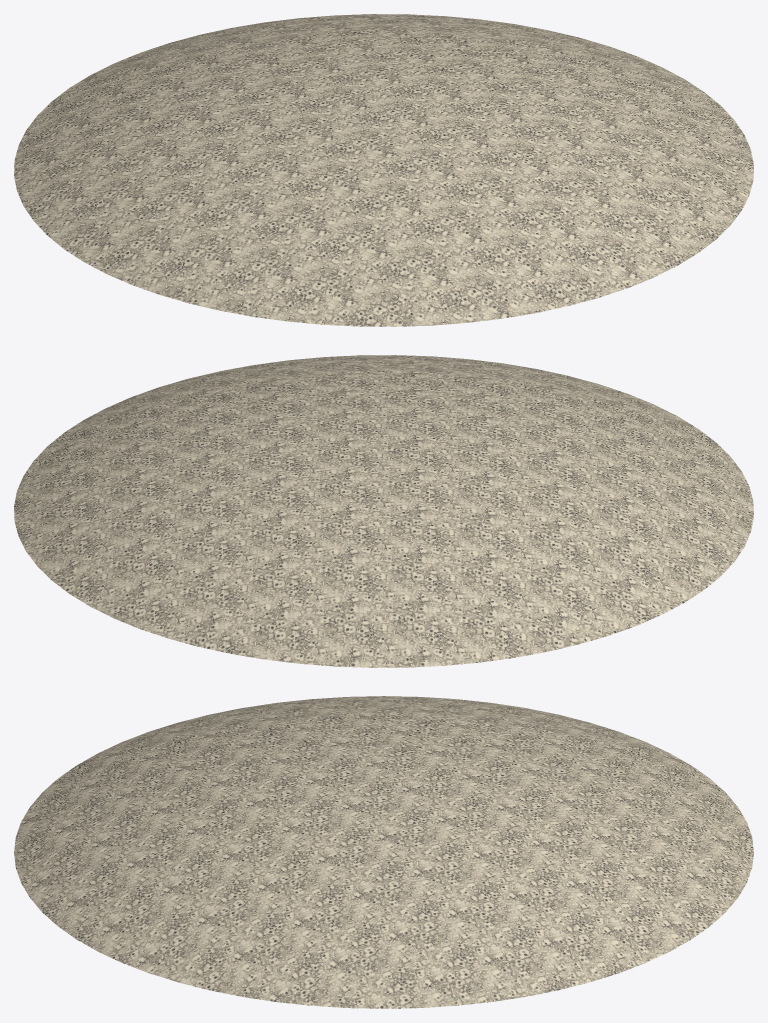
The model's file is GroundNormalMap.fbx.
3 views of the same model, one above another, from view 1: azimuth 30°, elevation 25°; view 2: azimuth 150°, elevation 25°; view 3: azimuth 270°, elevation 25° (orthographic).
Visible parts, largest first — view 1: Ground2; view 2: Ground2; view 3: Ground2.
Boxes of the visible parts, x1,y1,x2,y2 form: Ground2: (14,14,753,326); Ground2: (14,355,753,667); Ground2: (14,696,753,1008).
Size of what is drawn, in the model's own units: 513 by 57.61 by 513.
